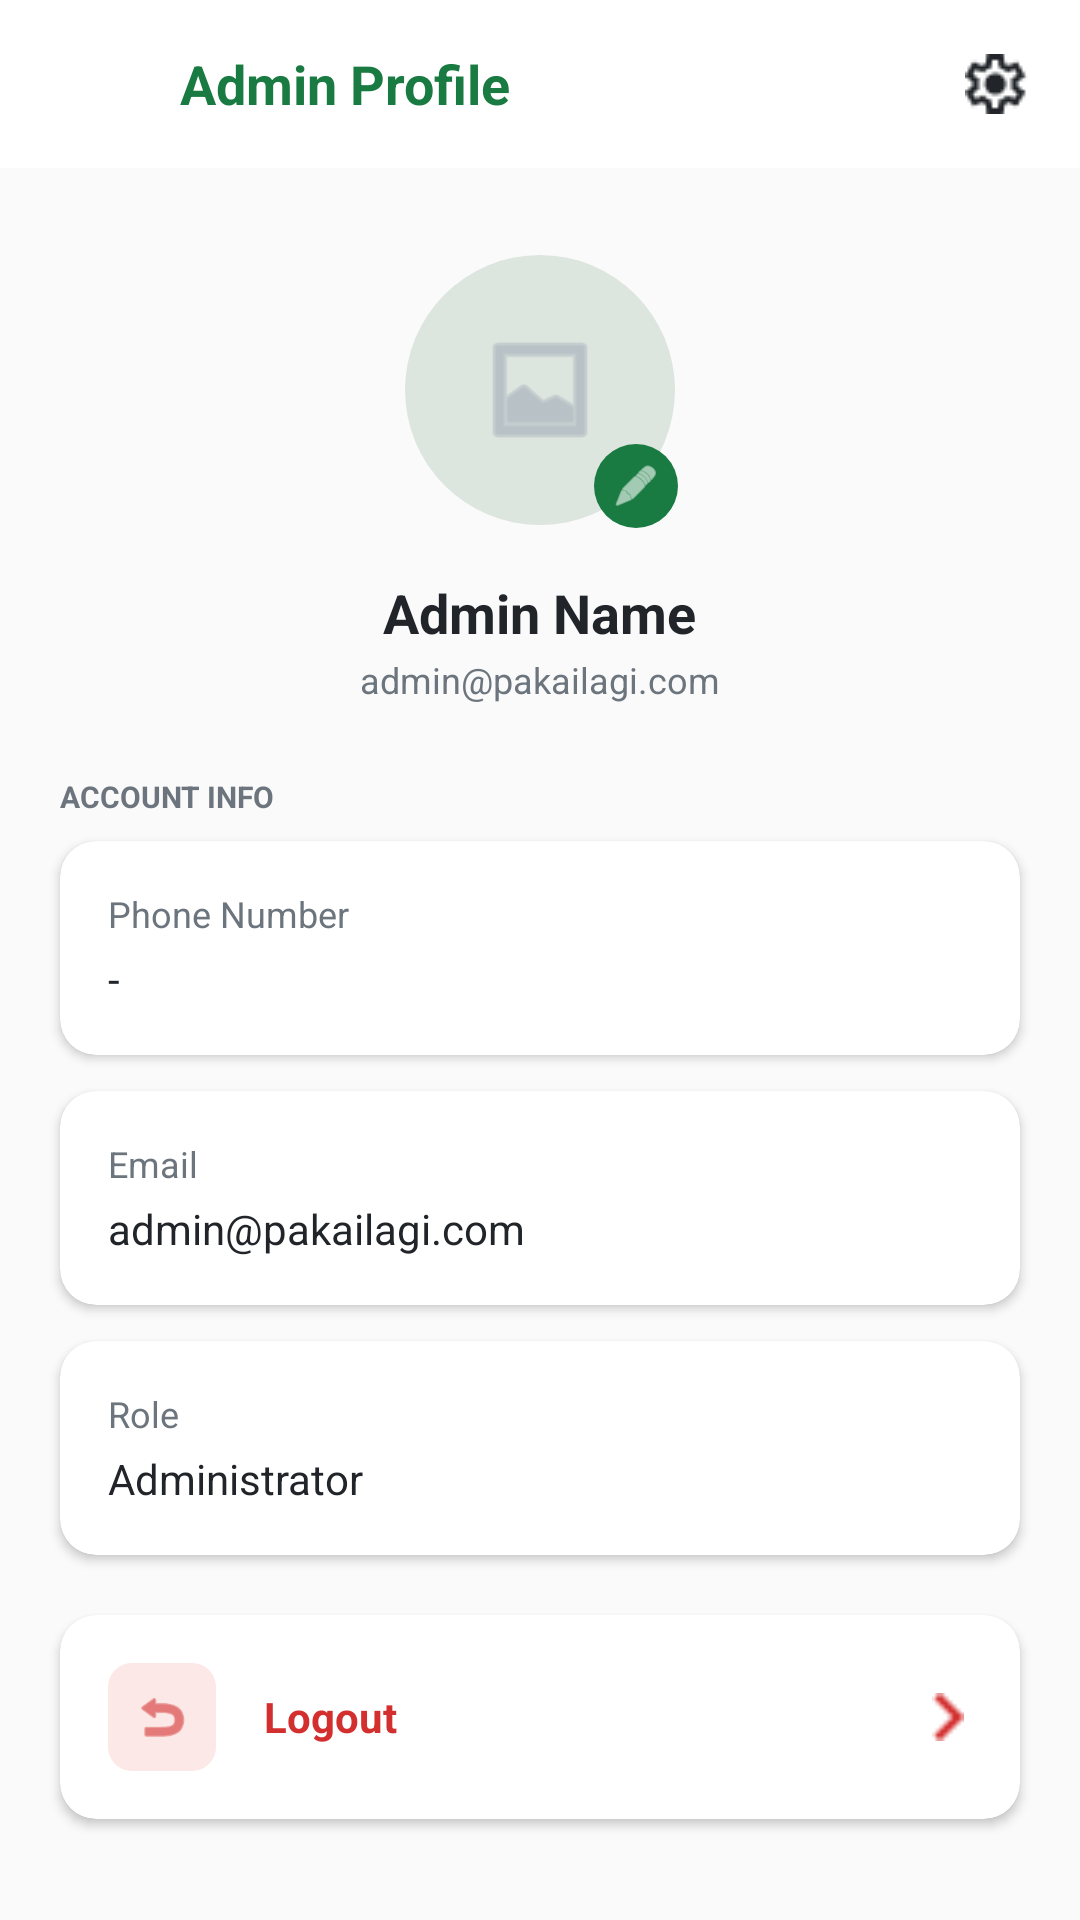

Icon bounding boxes for this 1080px×1920px phone screenshot, format (x1, y1, x2, y2):
revert: (108, 1663, 216, 1771)
setting: (965, 54, 1026, 114)
